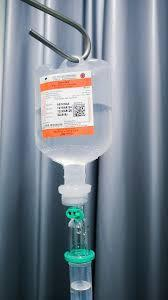Iv_Bottle: (35, 59, 111, 164)
